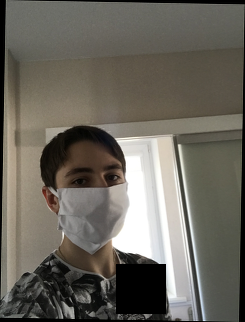with_mask: (55, 157, 130, 255)
